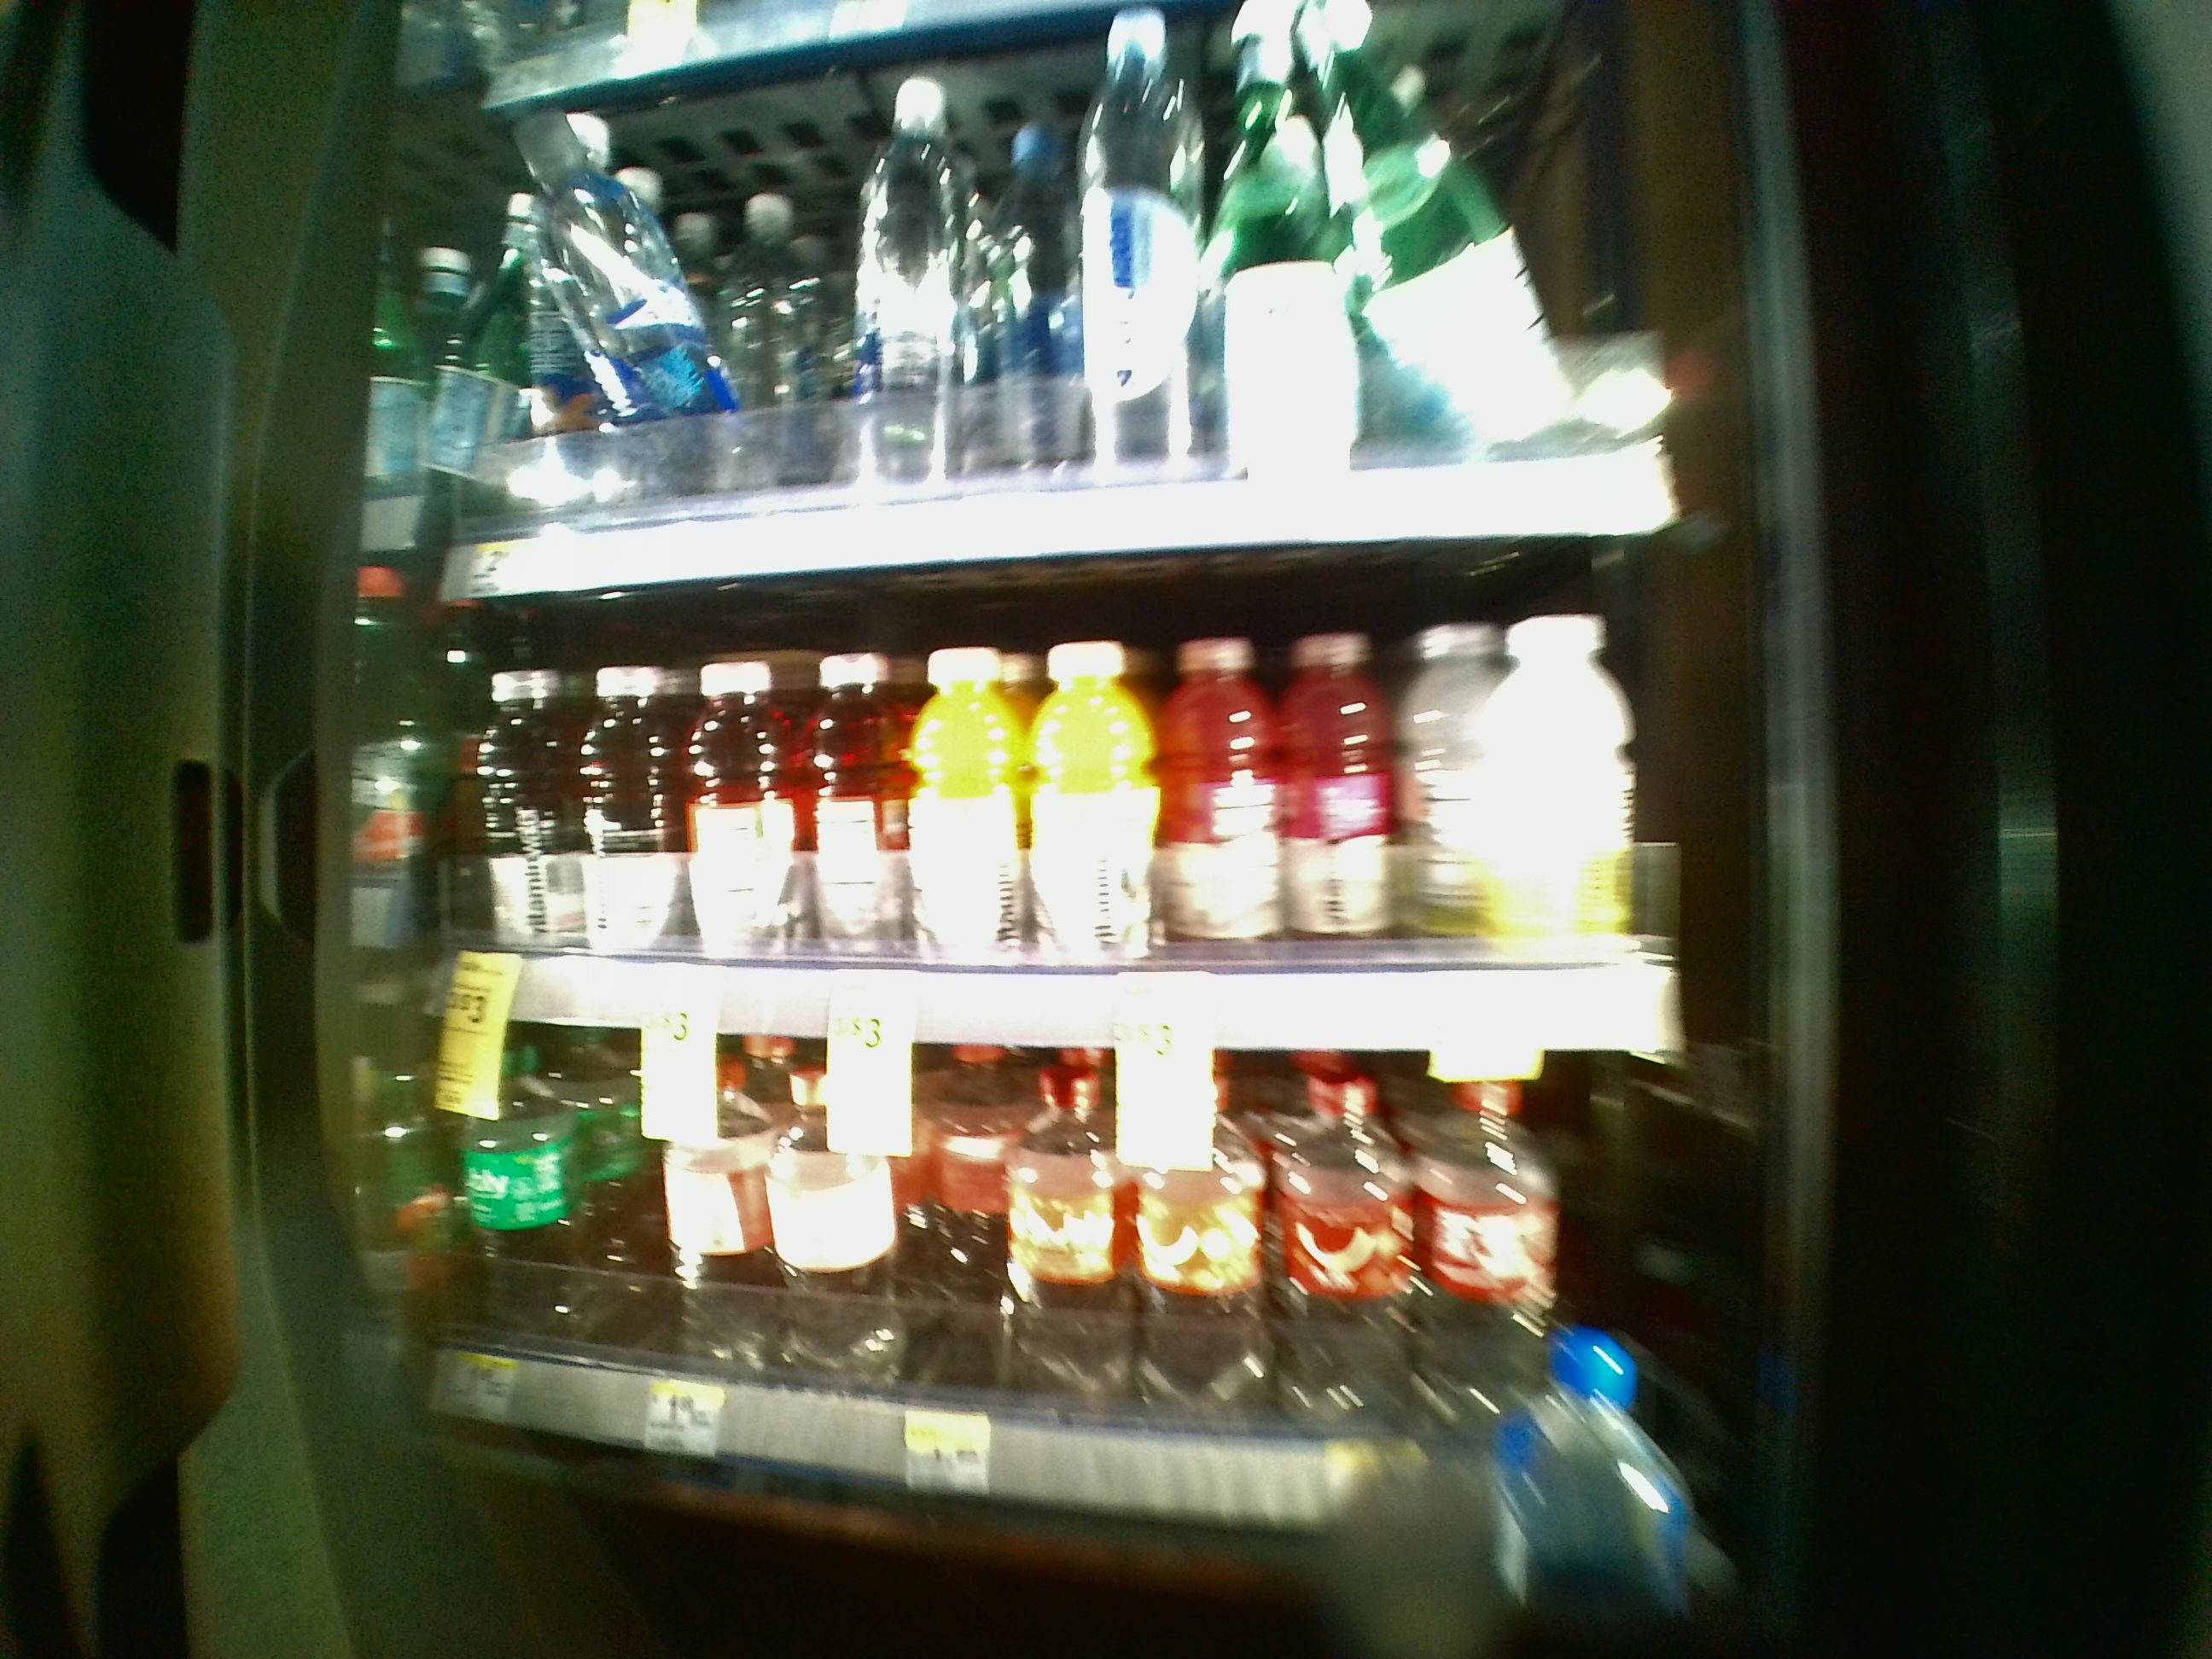shelf: (434, 596, 1684, 1047)
